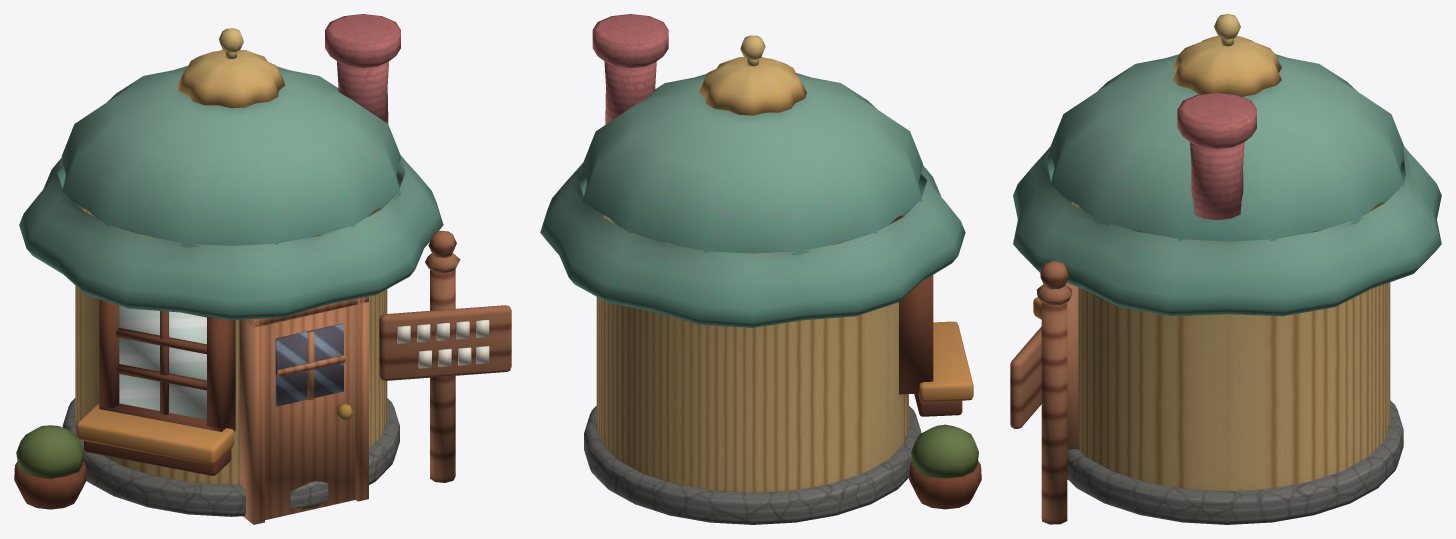
File: kiosk_1_mid.glb
3 views of the same model, side by side, from view 1: azimuth 30°, elevation 25°; view 2: azimuth 150°, elevation 25°; view 3: azimuth 270°, elevation 25° (orthographic). The views are drawn at different scales.
Parts seen in each view (by area): view 1: kiosk_1; view 2: kiosk_1; view 3: kiosk_1.
Boxes of the visible parts, x1,y1,x2,y2 form: kiosk_1: [14, 14, 511, 524]; kiosk_1: [540, 14, 981, 524]; kiosk_1: [1010, 14, 1441, 524].
Size of the model in its own units: 1.26 by 1.28 by 1.14.
1 material, 1 textured.
